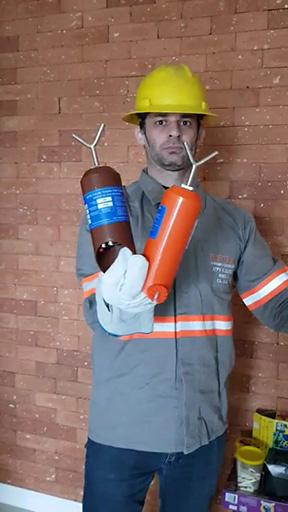Detector_Tensao_Contato: (139, 140, 222, 305), (70, 121, 135, 273)
